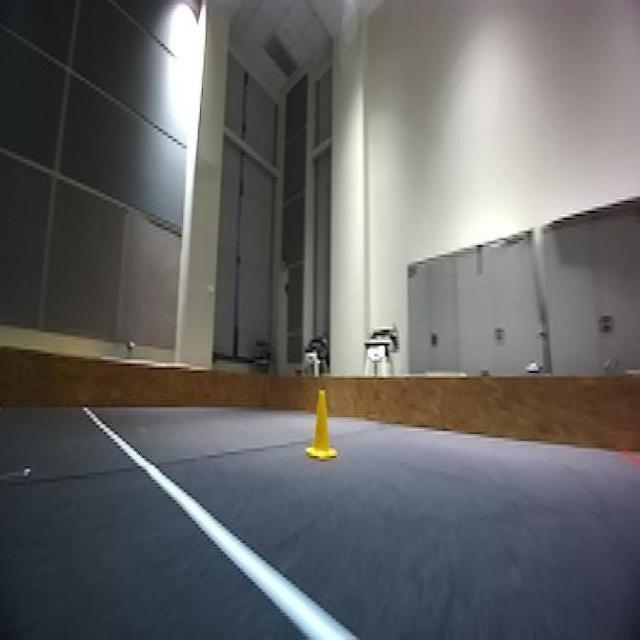frc_cone: (307, 386, 340, 458)
